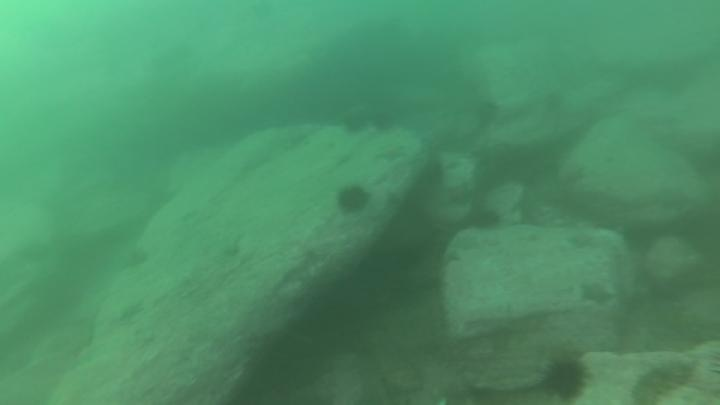echinus: (540, 355, 592, 402), (619, 220, 660, 256), (333, 181, 373, 217), (467, 205, 504, 235), (339, 108, 372, 138), (368, 108, 399, 136), (547, 92, 569, 115)
holothurian: (629, 357, 699, 405)
starfish: (576, 277, 617, 310), (113, 298, 147, 326), (372, 141, 409, 165), (441, 247, 464, 268)
